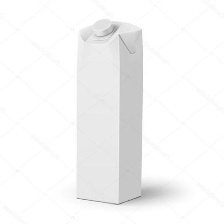carton: (61, 13, 150, 208)
